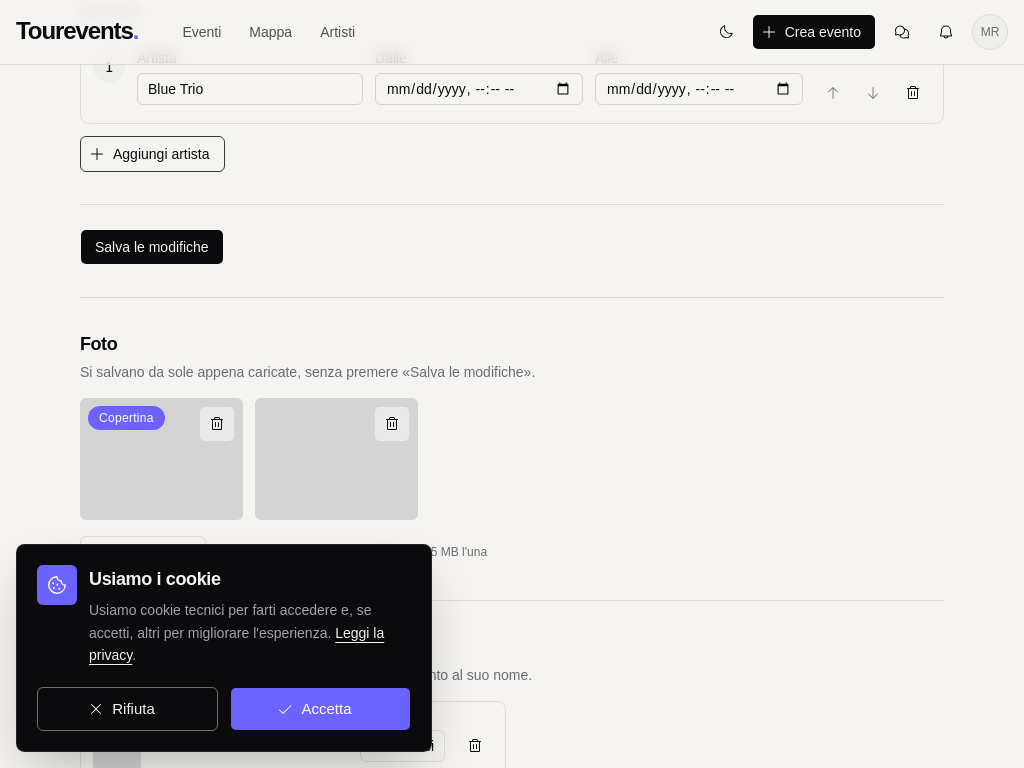
EventEditPage › toglie una foto dopo la conferma e ricarica l'evento
The image size is (1024, 768).
(page scrolled)
Expected: the text "2 di 10" is shown, [218,544,487,560]
Click the button named "Togli la foto 1": (217,424) [199,406,235,442]
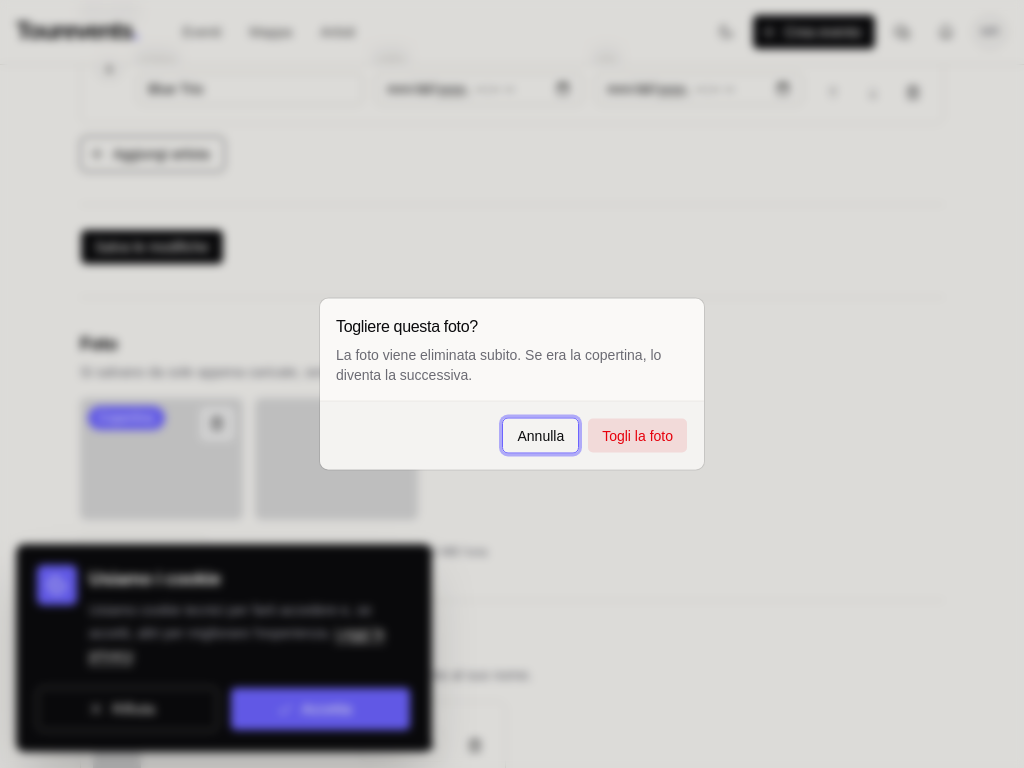
Click the button "Togli la foto": (638,436) [587,418,688,454]
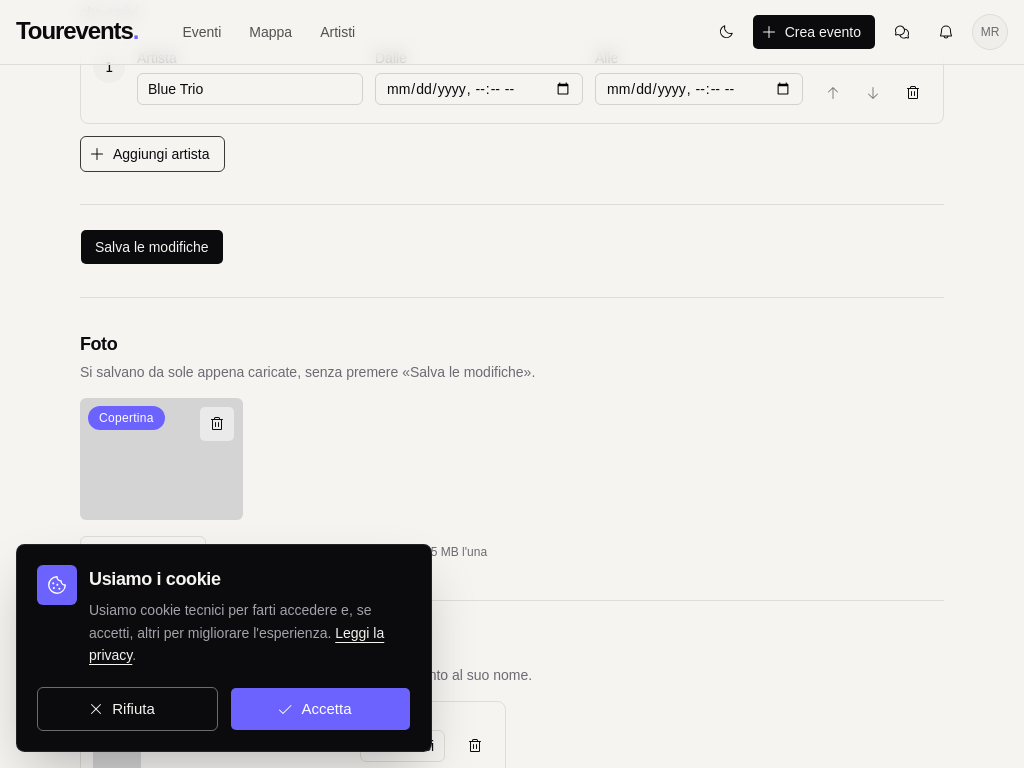
Now the text "1 di 10" is shown, box [218,544,487,560]
